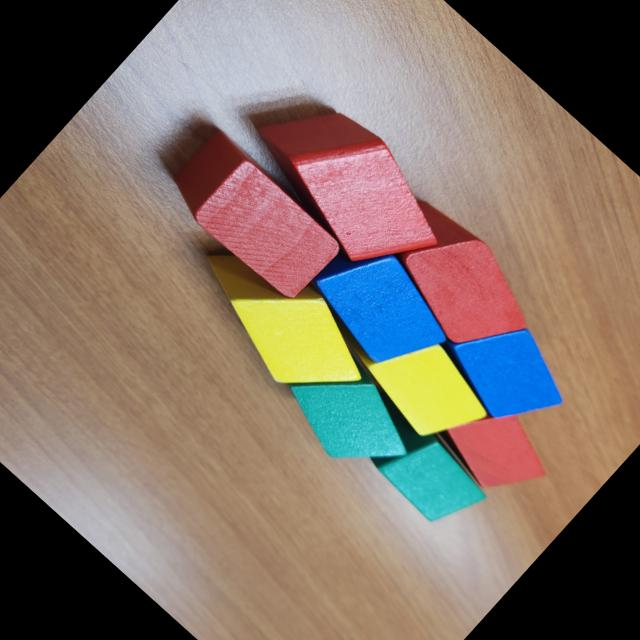blue: (297, 222, 466, 388), (425, 290, 583, 445)
green: (267, 334, 432, 496), (364, 410, 496, 539)
red: (229, 70, 463, 298), (361, 188, 550, 372), (159, 126, 347, 307), (432, 386, 562, 514)
yellow: (172, 219, 390, 429), (331, 295, 504, 463)
